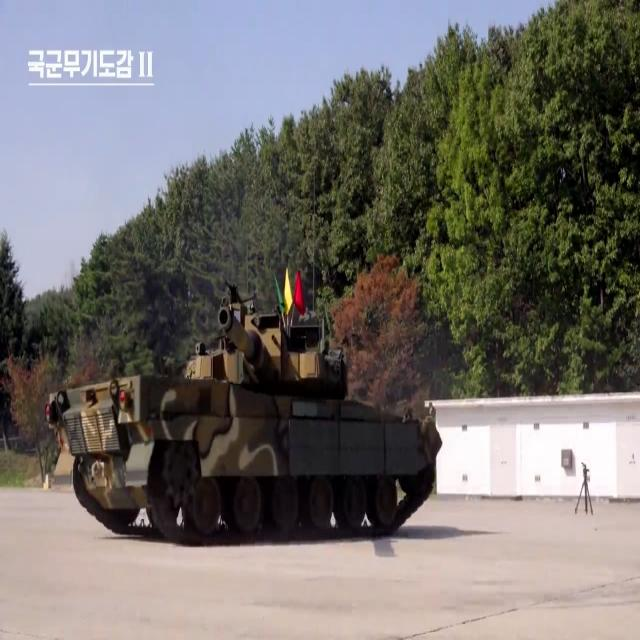korea tank: (45, 278, 443, 542)
